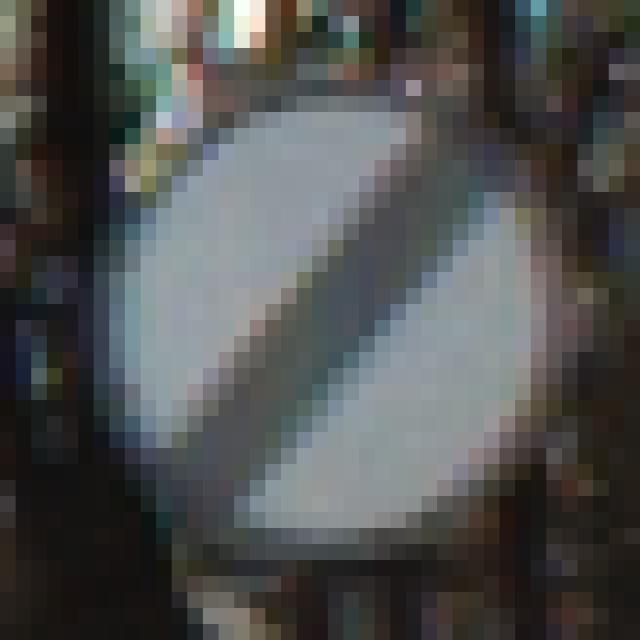restriction ends: (114, 83, 546, 537)
